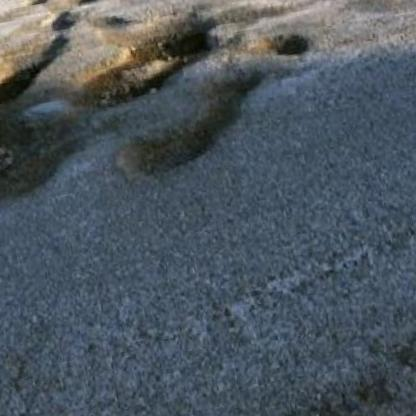pothole: (105, 61, 281, 185), (61, 7, 231, 115), (0, 104, 85, 242), (0, 32, 76, 111), (242, 27, 309, 65), (47, 7, 77, 34), (73, 0, 103, 7), (30, 0, 57, 7)
